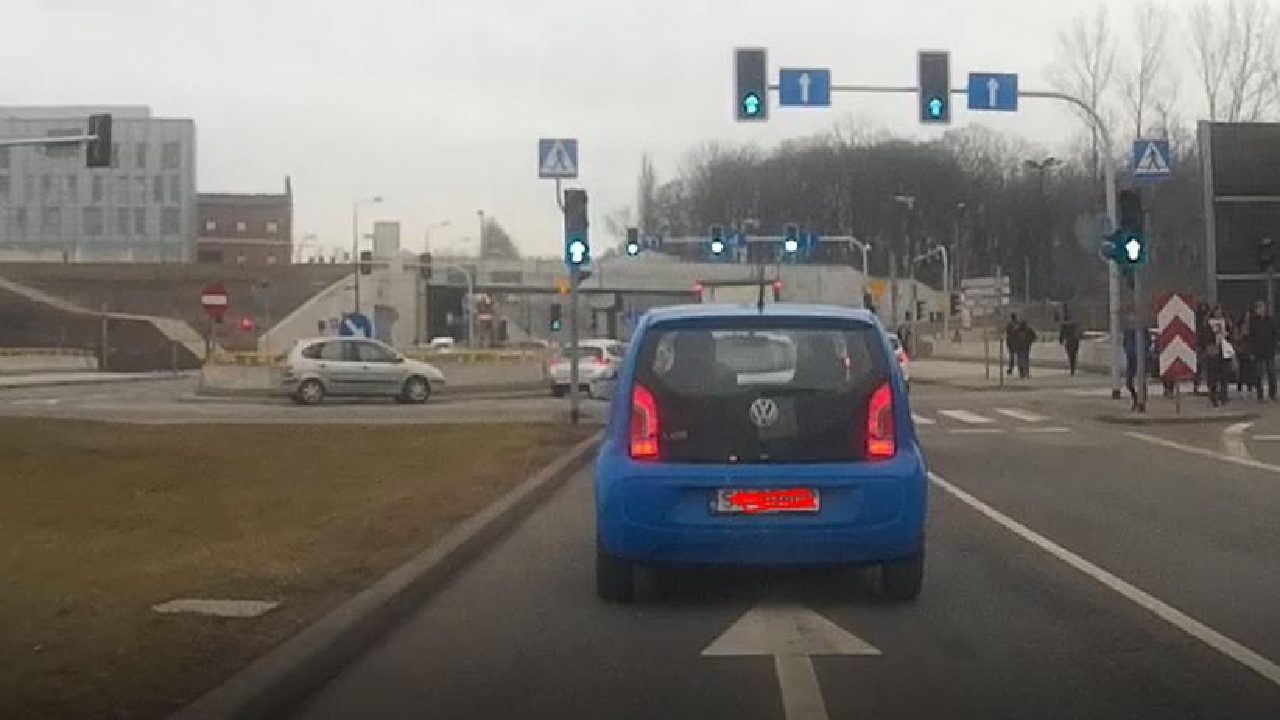D6: (533, 135, 587, 179), (1131, 136, 1172, 179)
